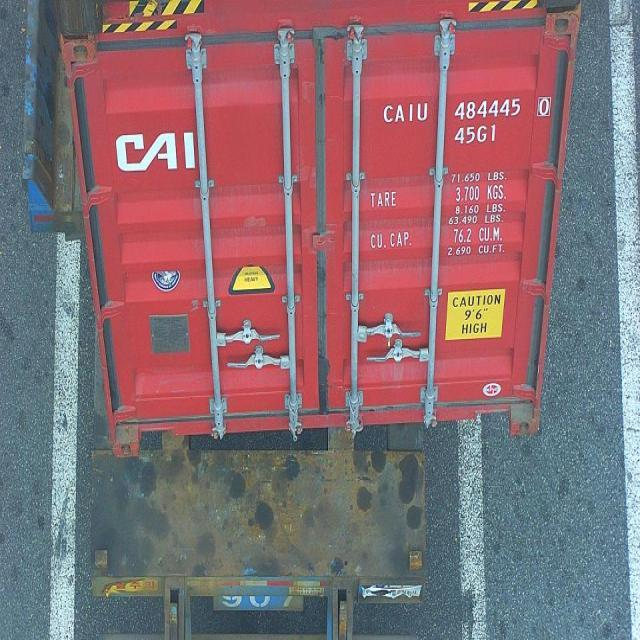ISO: (455, 125, 498, 144)
container_number: (383, 98, 551, 120)
